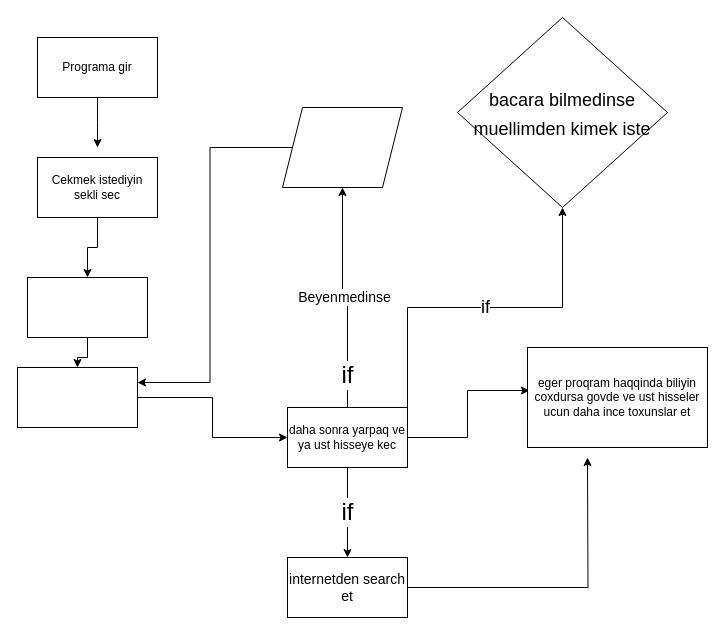
Some shapes in this 725 by 635 pixel diagram are drawn without their labels. The centre of each missing label's shape, as x and y in pixels:
eger cekilen sey aqacdirsa Govde hissesinden basla: point (77, 397)
hansi rengler olsun sec: point (87, 307)
yeniden cek: point (342, 147)
